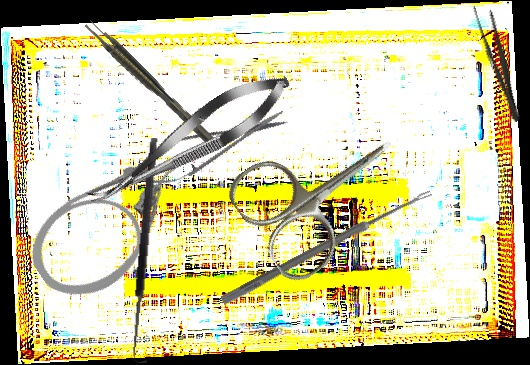Cannula: (14, 139, 212, 315)
Dressing Forceps: (469, 1, 528, 125)
Hook Surgical: (128, 137, 169, 364)
Iris Scissors: (221, 93, 427, 289)
Micro Scissor: (79, 60, 300, 222), (126, 96, 293, 198)
Surgical Spoon: (220, 186, 433, 307)
Tissue Forceps: (83, 17, 216, 150)
